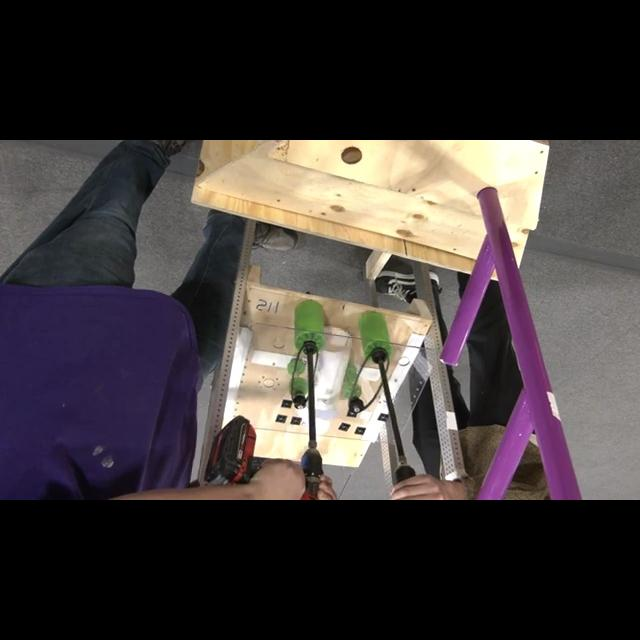CORAL: (298, 328, 352, 434)
